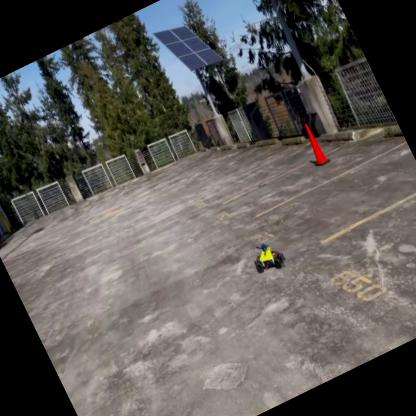cone: (297, 120, 331, 170)
mushr_car: (245, 234, 291, 280)
